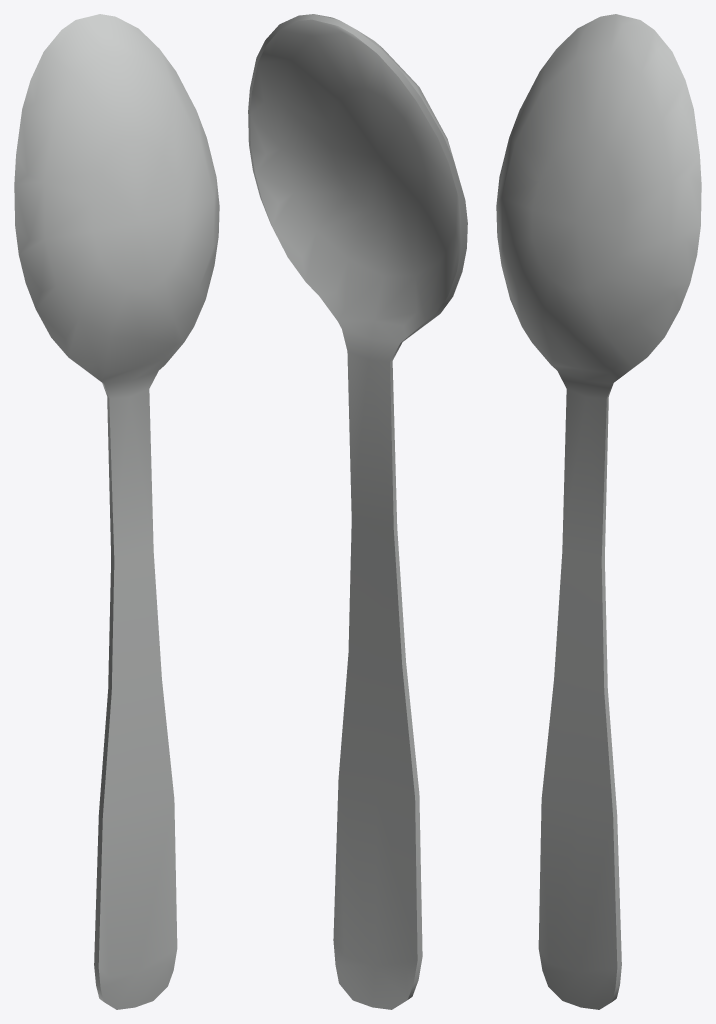
File: CutleryShovel.glb
3 renders of one model, left to right at view 1: azimuth 30°, elevation 25°; view 2: azimuth 150°, elevation 25°; view 3: azimuth 330°, elevation 25°, orthographic. The views are drawn at different scales.
Parts seen in each view (by area): view 1: Table Sppon; view 2: Table Sppon; view 3: Table Sppon.
Boxes of the visible parts, box(x1,y1,x2,y2) form: Table Sppon: box(14, 14, 219, 1009); Table Sppon: box(248, 14, 467, 1009); Table Sppon: box(496, 14, 701, 1009).
Size of the model in its own units: 0.2142 by 0.9713 by 0.1126.
1 material, 1 textured.
